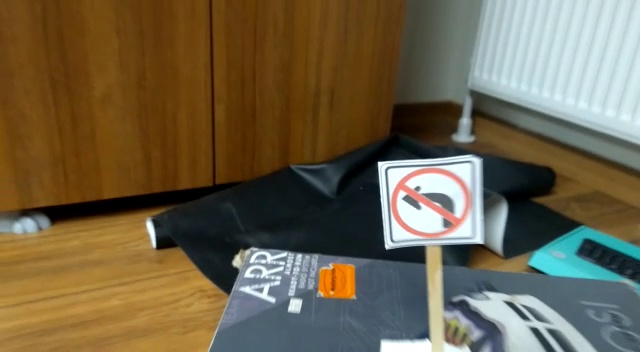sola_donulmez: (388, 160, 478, 242)
